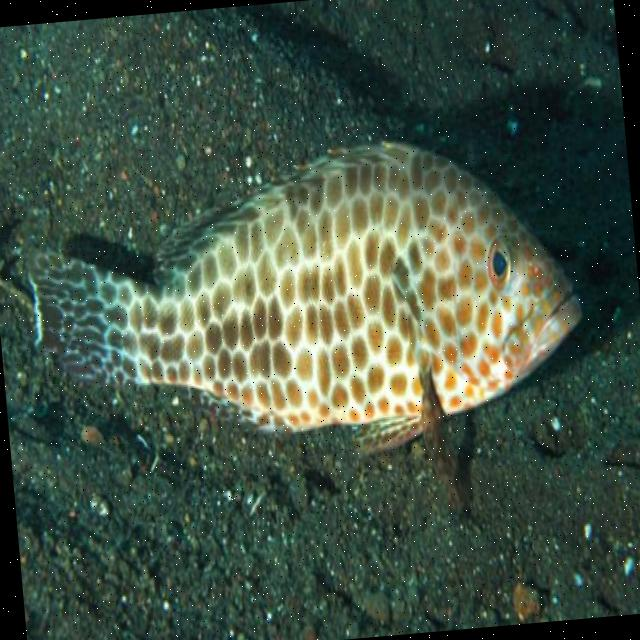ikan: (17, 120, 594, 488)
